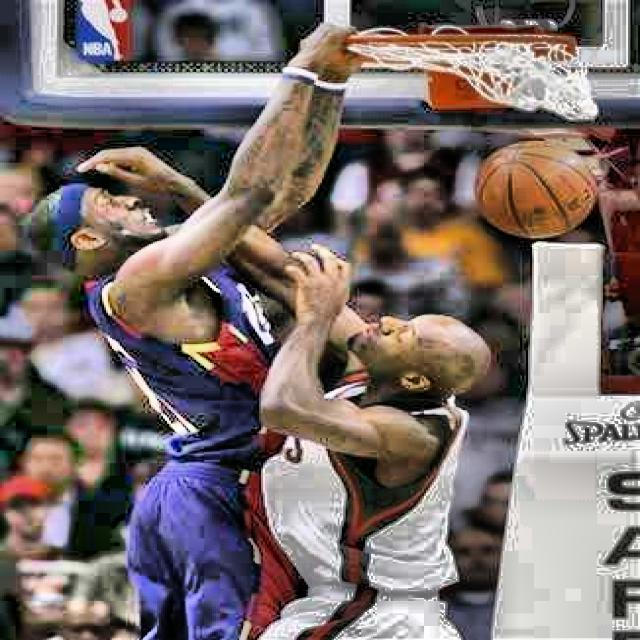board: (475, 140, 599, 240)
